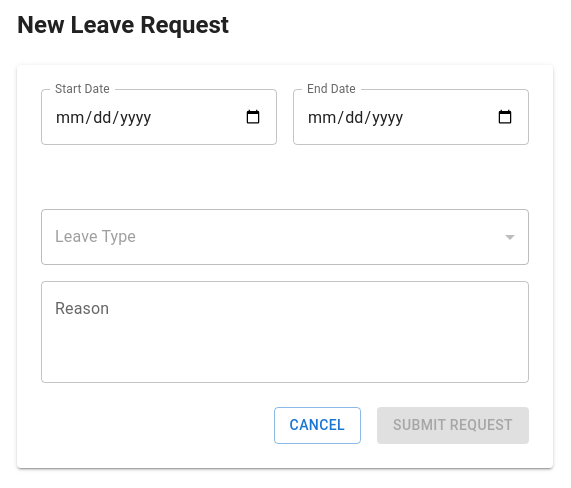
Test case: UT-FE-04: Half-day toggle (FR-39) › half-day switch appears when start == end (single day)
Type "2026-08-10" into the date field with test id "start-date-input" at (159,117), box [41,89,277,145]
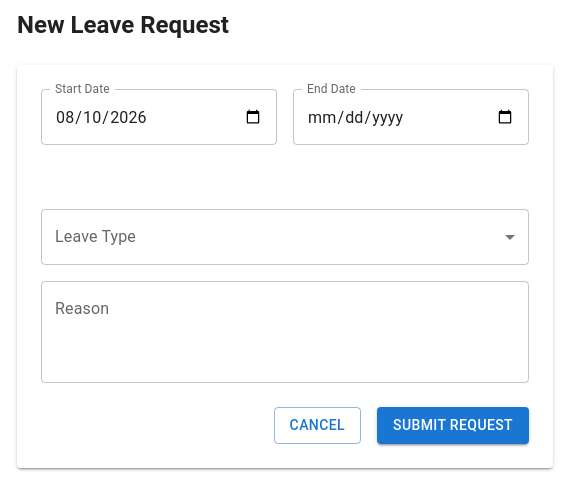
Type "2026-08-10" into the date field with test id "end-date-input" at (411,117), box [293,89,529,145]
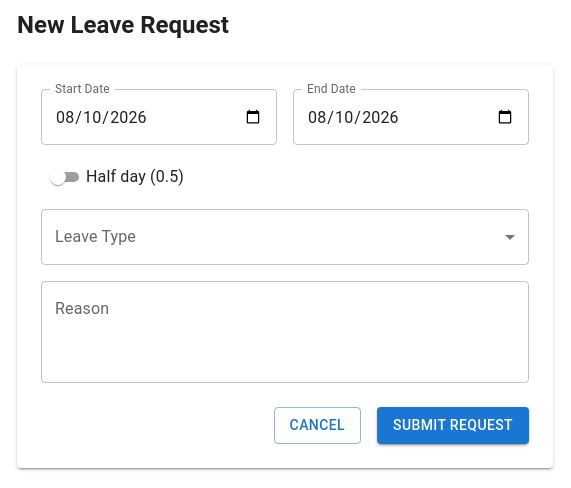
Expected: the checkbox with test id "half-day-switch" is shown, [46,165,184,189]
